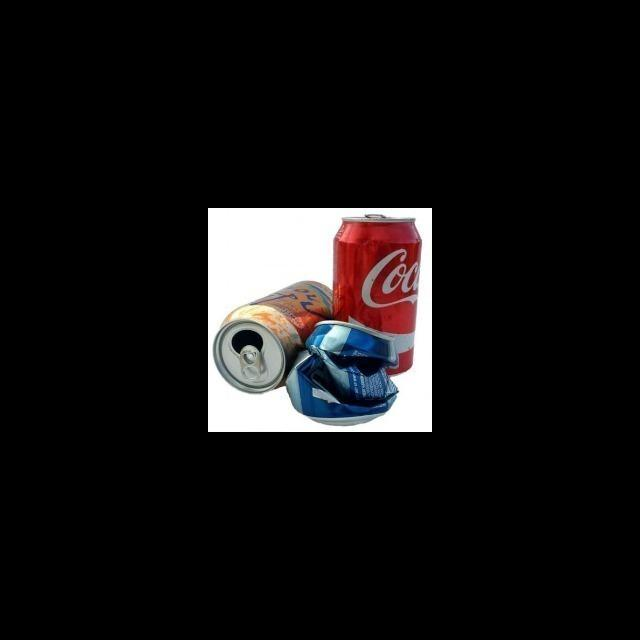metal: (319, 212, 426, 379), (208, 276, 344, 392), (282, 320, 402, 427)
